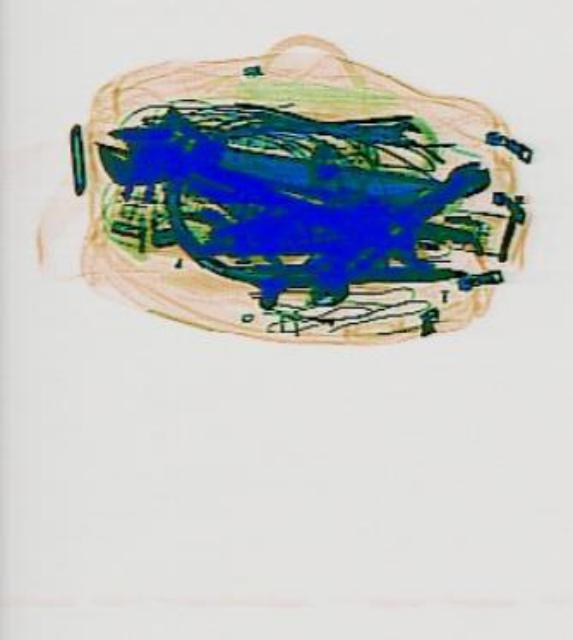Wrench: (87, 110, 330, 238)
